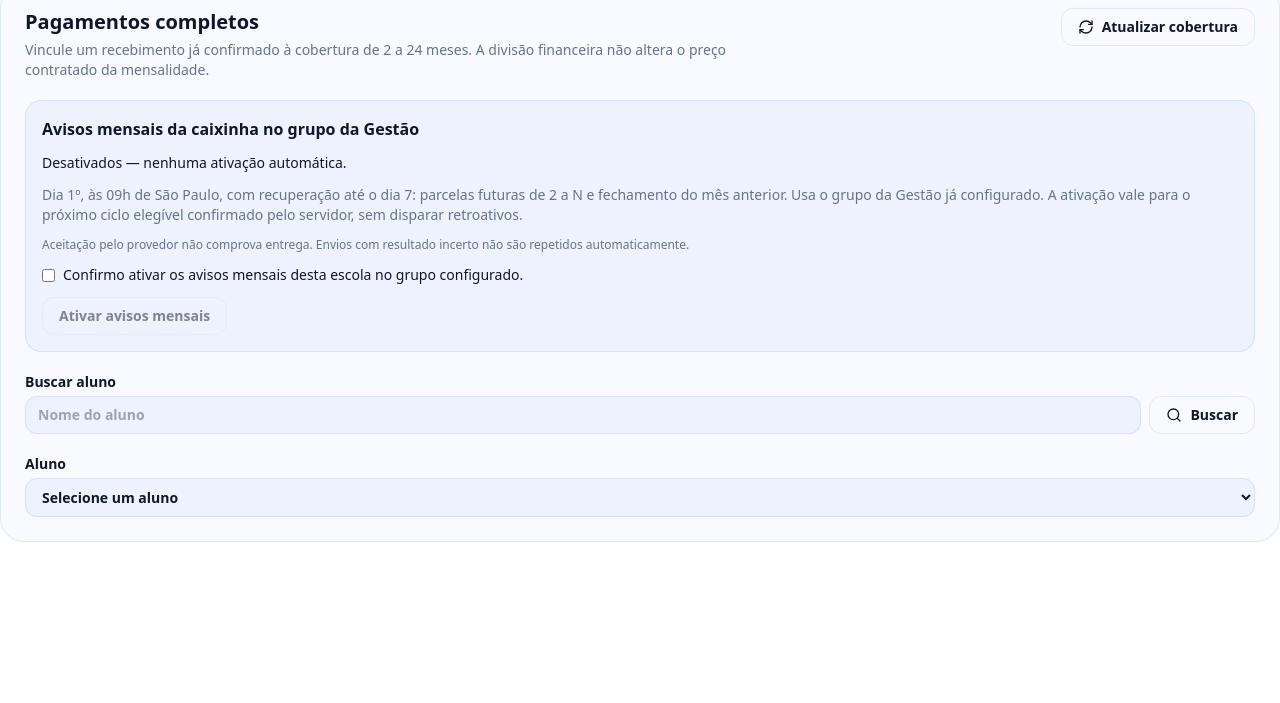
Test: pagamentos completos na direção › bloqueia rateio mensal após aviso integral, mas permite LEGADO quando o servidor autoriza
The width and height of the screenshot is (1280, 703).
Step 1. Select "Aluna A" in the dropdown labelled "Aluno" → (640, 498), box left=25, top=478, right=1255, bottom=517
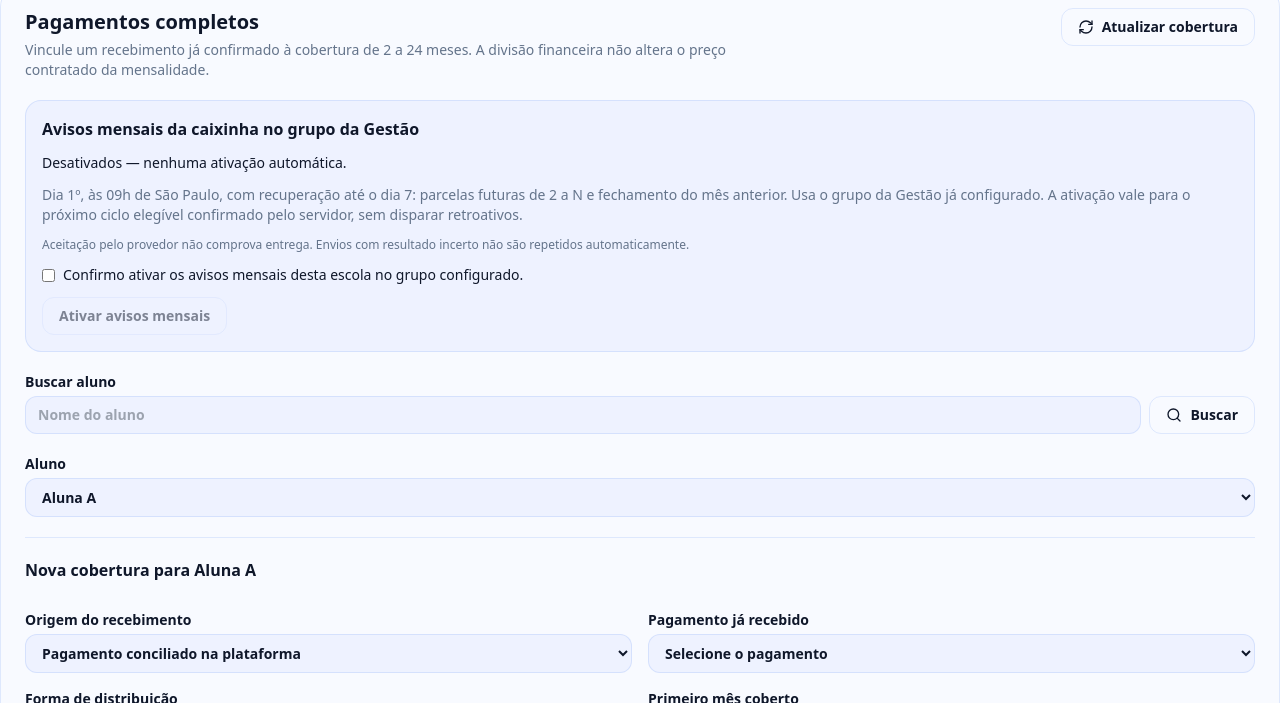
Expected: the text "Nova cobertura para Aluna A" is shown, left=25, top=558, right=256, bottom=582
Step 2. Select "05/09/2026 · R$ 100,01 · Contrato trimestral" in the dropdown labelled "Pagamento já recebido" → (952, 654), box left=648, top=634, right=1255, bottom=673
(page scrolled)
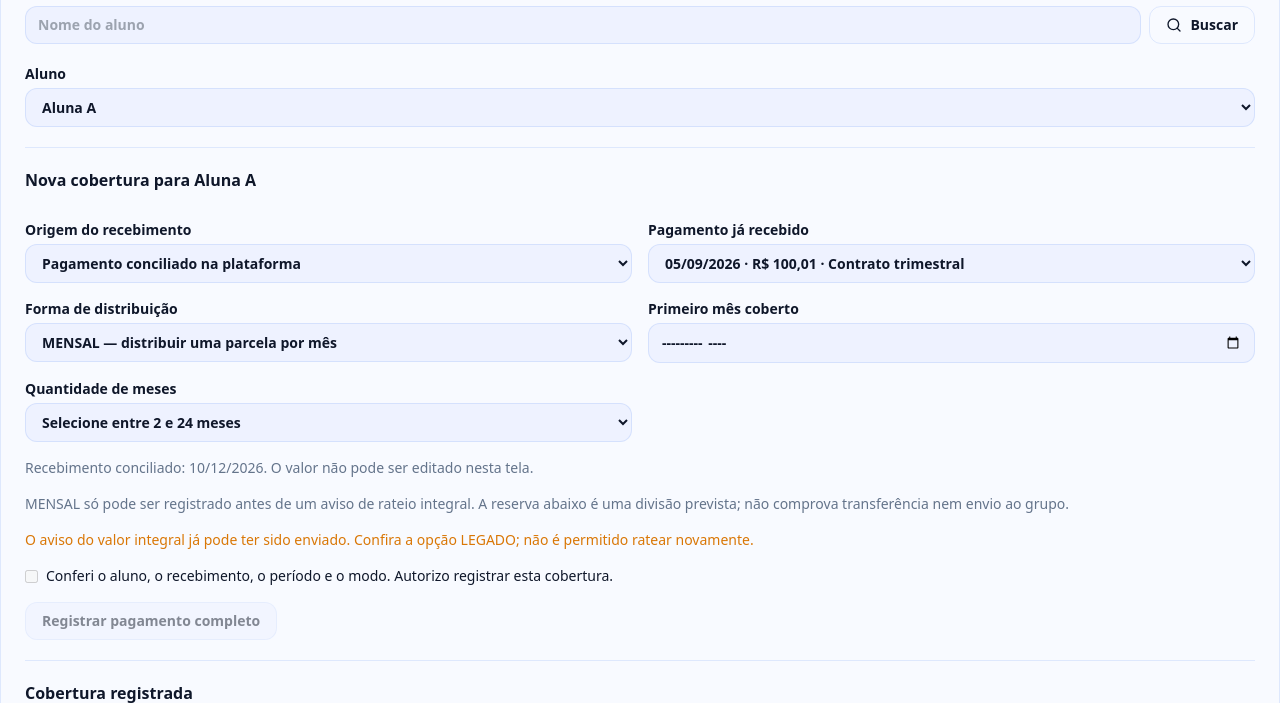
Step 3. Type "2026-12" into the field labelled "Primeiro mês coberto" → (952, 343), box left=648, top=323, right=1255, bottom=363
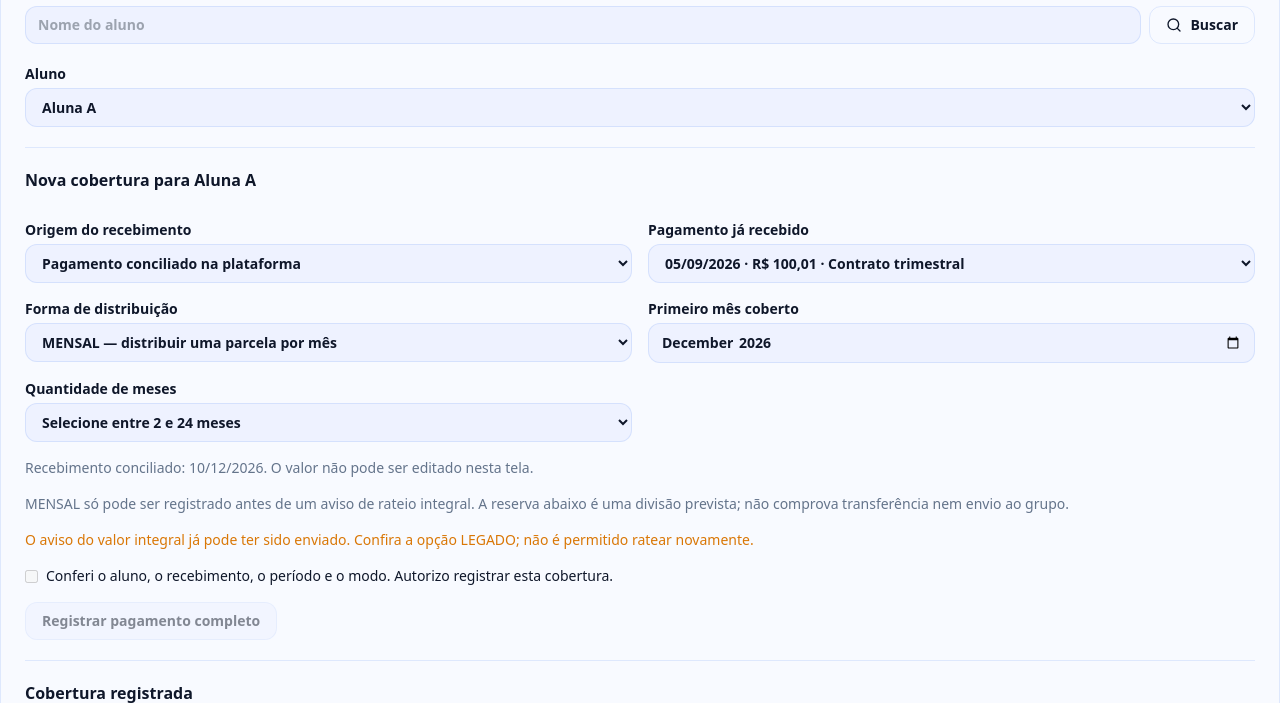
Step 4. Select "3 meses" in the dropdown labelled "Quantidade de meses" → (328, 422), box left=25, top=403, right=632, bottom=442
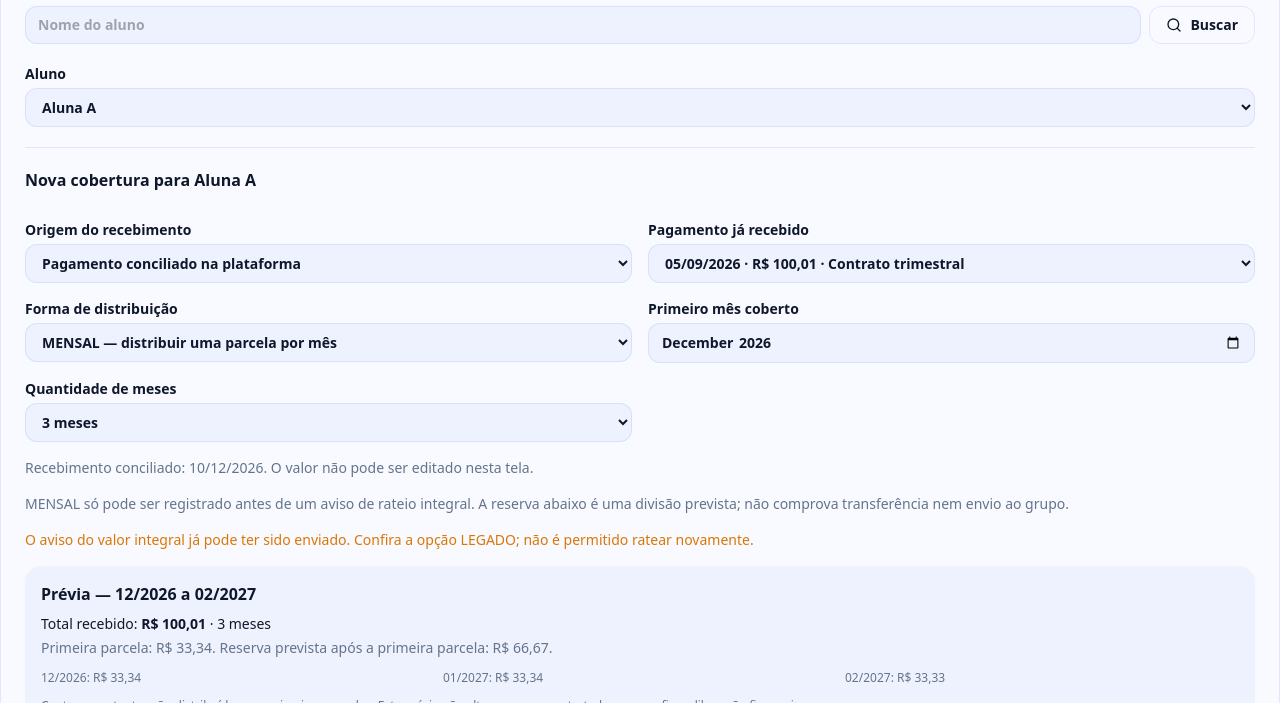
Expected: the message shows "valor integral já pode ter sido enviado", left=25, top=530, right=754, bottom=549
Step 5. Select "LEGADO — cobrir meses sem novo rateio" in the dropdown labelled "Forma de distribuição" → (328, 342), box left=25, top=323, right=632, bottom=362
(page scrolled)
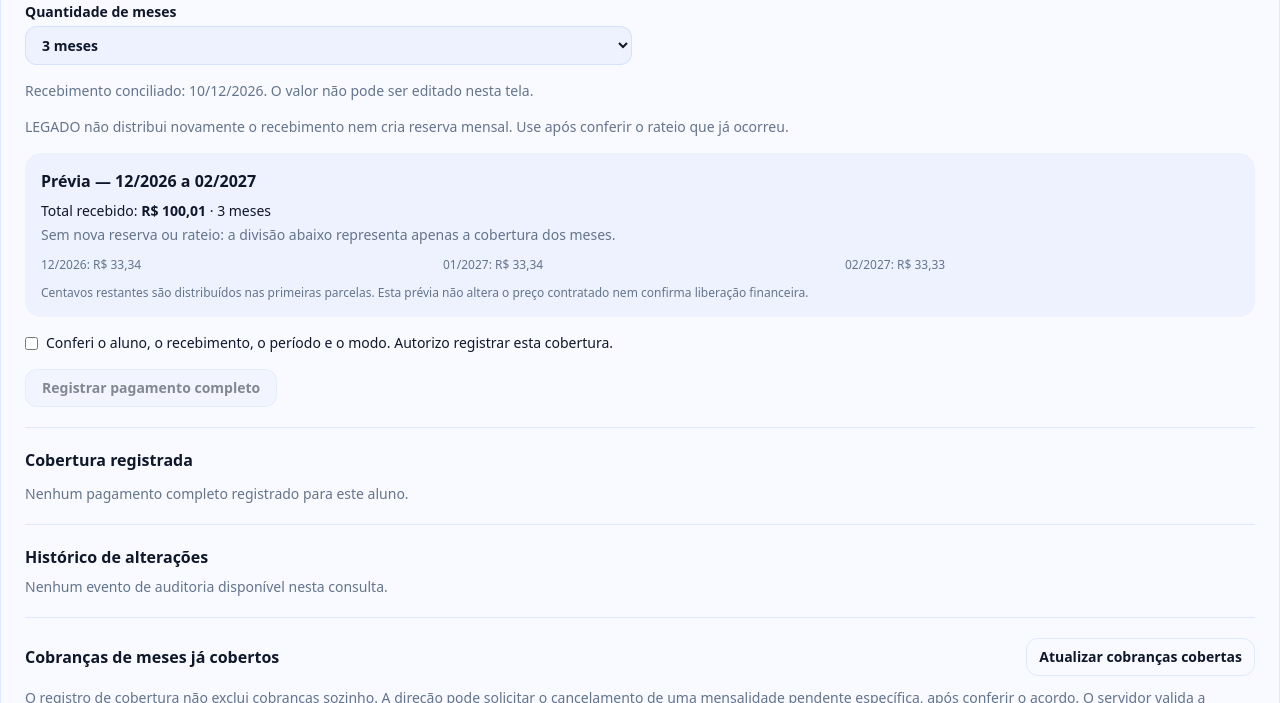
Expected: the checkbox labelled "Conferi o aluno" is enabled, left=25, top=337, right=38, bottom=350
